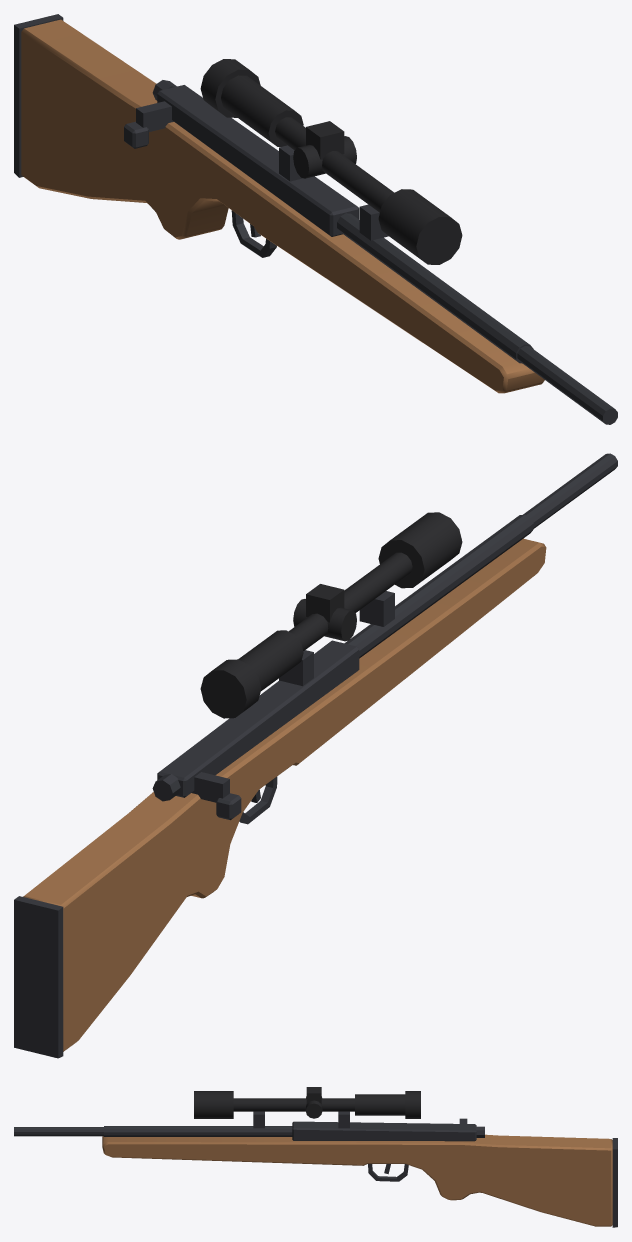
The model's file is HuntingRifle.fbx.
3 views of the same model, one above another, from view 1: azimuth 30°, elevation 25°; view 2: azimuth 150°, elevation 25°; view 3: azimuth 270°, elevation 25° (orthographic). The views are drawn at different scales.
Parts seen in each view (by area): view 1: HuntingRifle; view 2: HuntingRifle; view 3: HuntingRifle.
Boxes of the visible parts, x1,y1,x2,y2 form: HuntingRifle: [14, 14, 617, 424]; HuntingRifle: [14, 453, 617, 1058]; HuntingRifle: [14, 1087, 617, 1227].
Size of the model in its own units: 0.085 by 0.2598 by 1.08.
